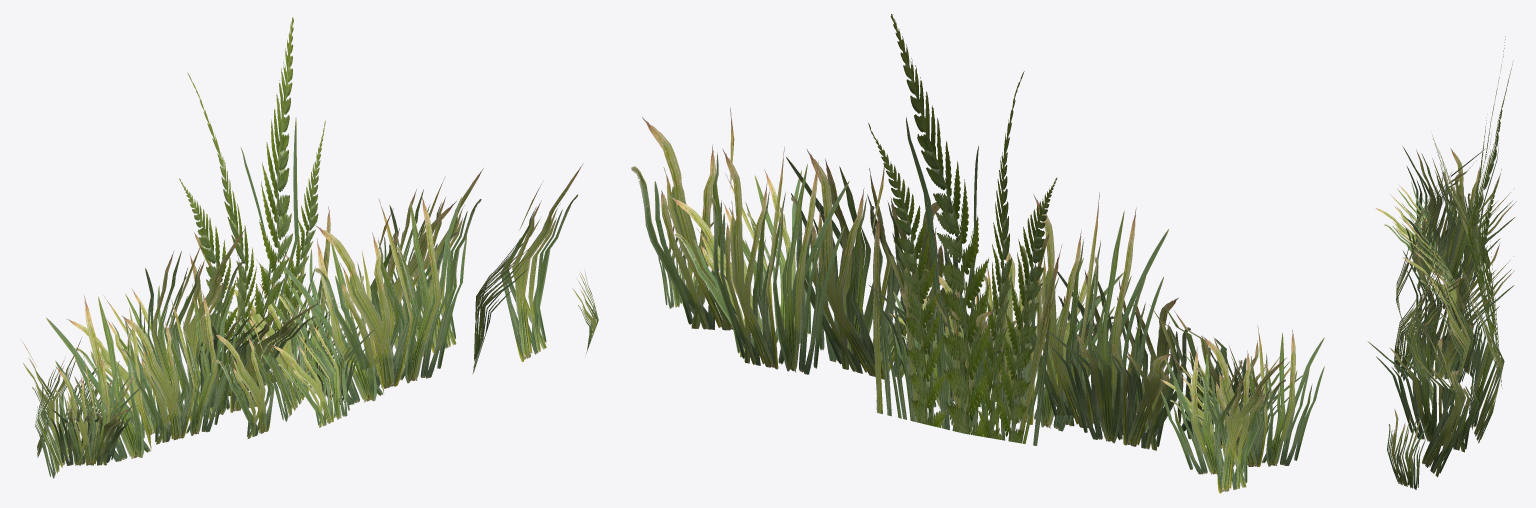
Rendered from Grass_2.fbx.
3 views of the same model, side by side, from view 1: azimuth 30°, elevation 25°; view 2: azimuth 150°, elevation 25°; view 3: azimuth 270°, elevation 25° (orthographic). The views are drawn at different scales.
Parts seen in each view (by area): view 1: Grass_2_Leaf1, Grass_2_Leaf2; view 2: Grass_2_Leaf1, Grass_2_Leaf2; view 3: Grass_2_Leaf1, Grass_2_Leaf2.
Part boxes in pixels (x1,y1,x2,y2): Grass_2_Leaf1: [21, 163, 598, 478]; Grass_2_Leaf2: [179, 17, 330, 396]; Grass_2_Leaf1: [631, 107, 1324, 493]; Grass_2_Leaf2: [868, 14, 1058, 445]; Grass_2_Leaf1: [1367, 135, 1516, 489]; Grass_2_Leaf2: [1466, 36, 1513, 388].
Size of the model in its own units: 188 by 117 by 49.93.
